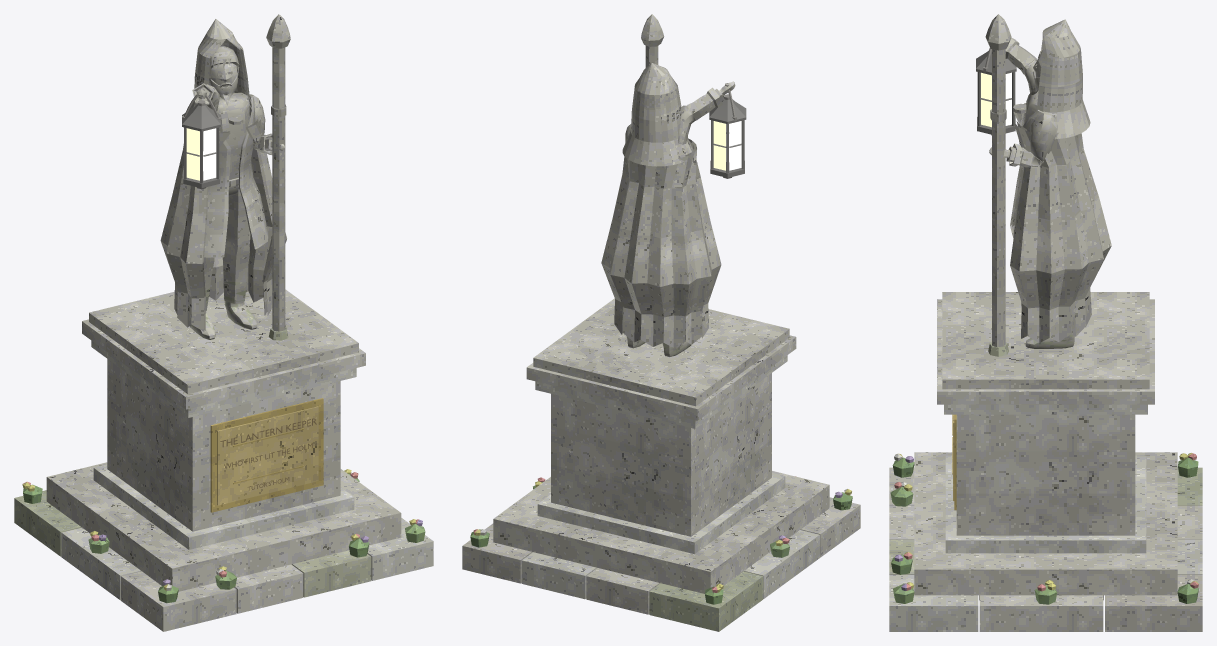
Rendered from holm_arrival_statue_oldschool_v1.glb.
The picture shows the model from 3 angles, left to right: view 1: azimuth 30°, elevation 25°; view 2: azimuth 150°, elevation 25°; view 3: azimuth 270°, elevation 25°; orthographic projection. The views are drawn at different scales.
Parts seen in each view (by area): view 1: LanternKeeperPlinth, LanternKeeperFigure, LanternKeeperCloak, LanternKeeperStaff, LanternKeeperLantern, LanternKeeperLettering; view 2: LanternKeeperPlinth, LanternKeeperCloak, LanternKeeperLantern, LanternKeeperFigure, LanternKeeperStaff; view 3: LanternKeeperPlinth, LanternKeeperCloak, LanternKeeperStaff, LanternKeeperFigure, LanternKeeperLantern.
Part boxes in pixels (x1=…): LanternKeeperPlinth: x1=14, y1=289, x2=433, y2=631; LanternKeeperFigure: x1=190, y1=46, x2=284, y2=339; LanternKeeperCloak: x1=160, y1=19, x2=286, y2=331; LanternKeeperStaff: x1=266, y1=14, x2=290, y2=340; LanternKeeperLantern: x1=182, y1=88, x2=221, y2=189; LanternKeeperLettering: x1=220, y1=418, x2=316, y2=490; LanternKeeperPlinth: x1=462, y1=298, x2=860, y2=631; LanternKeeperCloak: x1=601, y1=62, x2=721, y2=347; LanternKeeperLantern: x1=709, y1=83, x2=746, y2=178; LanternKeeperFigure: x1=625, y1=81, x2=735, y2=356; LanternKeeperStaff: x1=641, y1=14, x2=664, y2=67; LanternKeeperPlinth: x1=889, y1=292, x2=1202, y2=631; LanternKeeperCloak: x1=1010, y1=19, x2=1111, y2=342; LanternKeeperStaff: x1=985, y1=14, x2=1011, y2=356; LanternKeeperFigure: x1=989, y1=38, x2=1074, y2=348; LanternKeeperLantern: x1=976, y1=48, x2=1016, y2=135.
Size of the model in its own units: 1.83 by 3.49 by 1.75.
4 materials, 1 textured.
